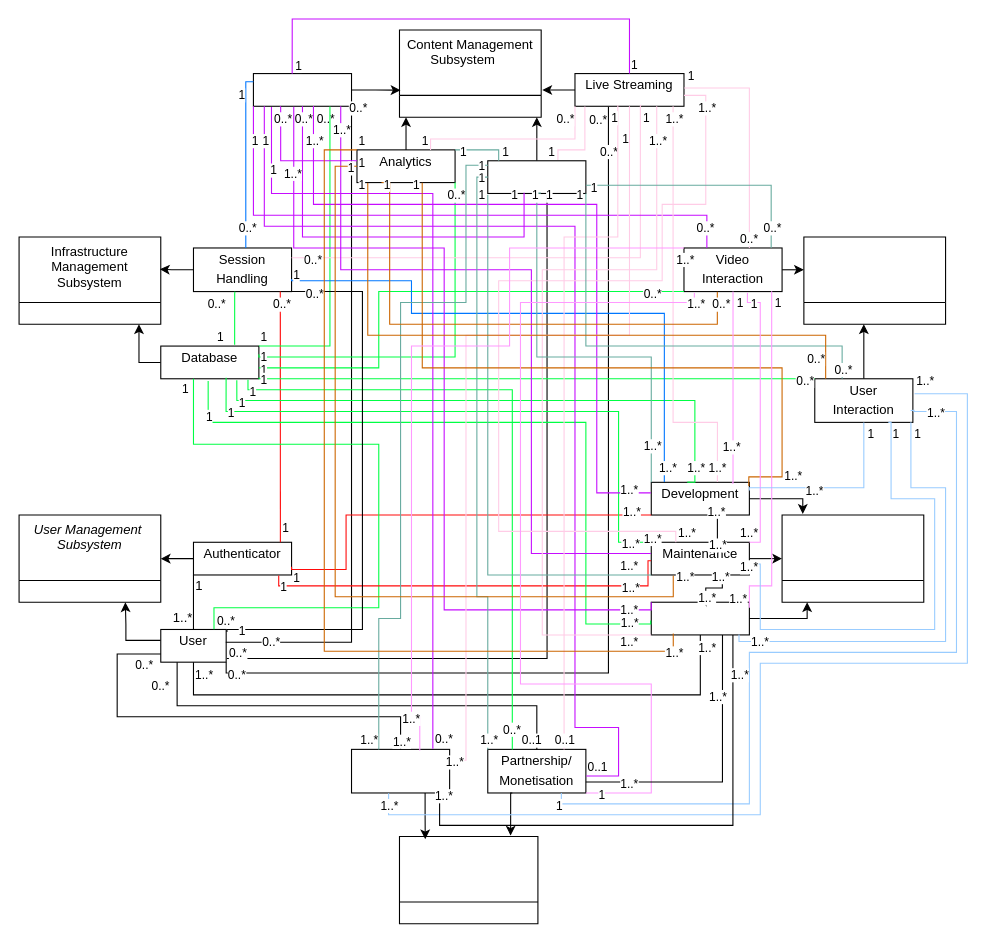
This 988x943 diagram has some shape labels left out. The centre of each missing label's shape, as x and y in pixels:
Admin: point (699, 618)
Advertising Campaign: point (400, 770)
Advertising Management Subsystem: point (468, 879)
Algorithm: point (536, 176)
Community Engagement Subsystem: point (874, 280)
Support Management Subsystem: point (852, 558)
Video: point (302, 89)
